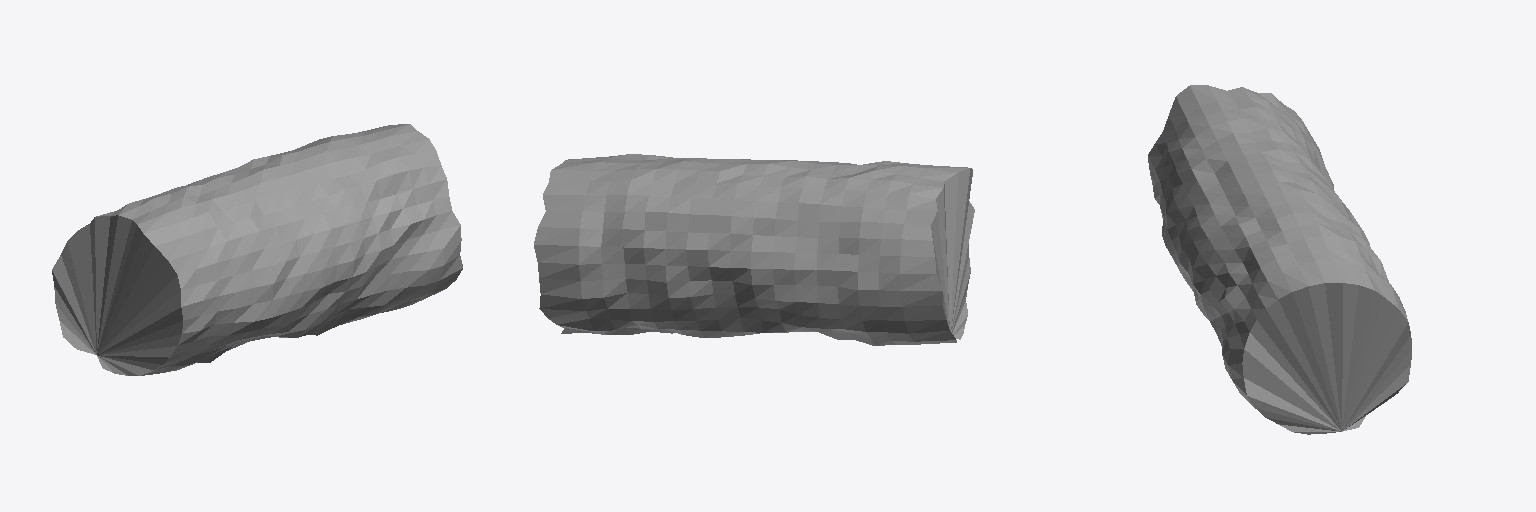
The model's file is DeadTrunk.obj.
3 renders of one model, left to right at view 1: azimuth 30°, elevation 25°; view 2: azimuth 150°, elevation 25°; view 3: azimuth 270°, elevation 25°, orthographic.
Visible parts, largest first — view 1: Campfire_Cylinder.001; view 2: Campfire_Cylinder.001; view 3: Campfire_Cylinder.001.
Boxes of the visible parts, x1,y1,x2,y2 form: Campfire_Cylinder.001: [52, 124, 462, 375]; Campfire_Cylinder.001: [534, 154, 974, 345]; Campfire_Cylinder.001: [1148, 85, 1411, 434].
Size of the model in its own units: 1.54 by 0.7322 by 0.9249.